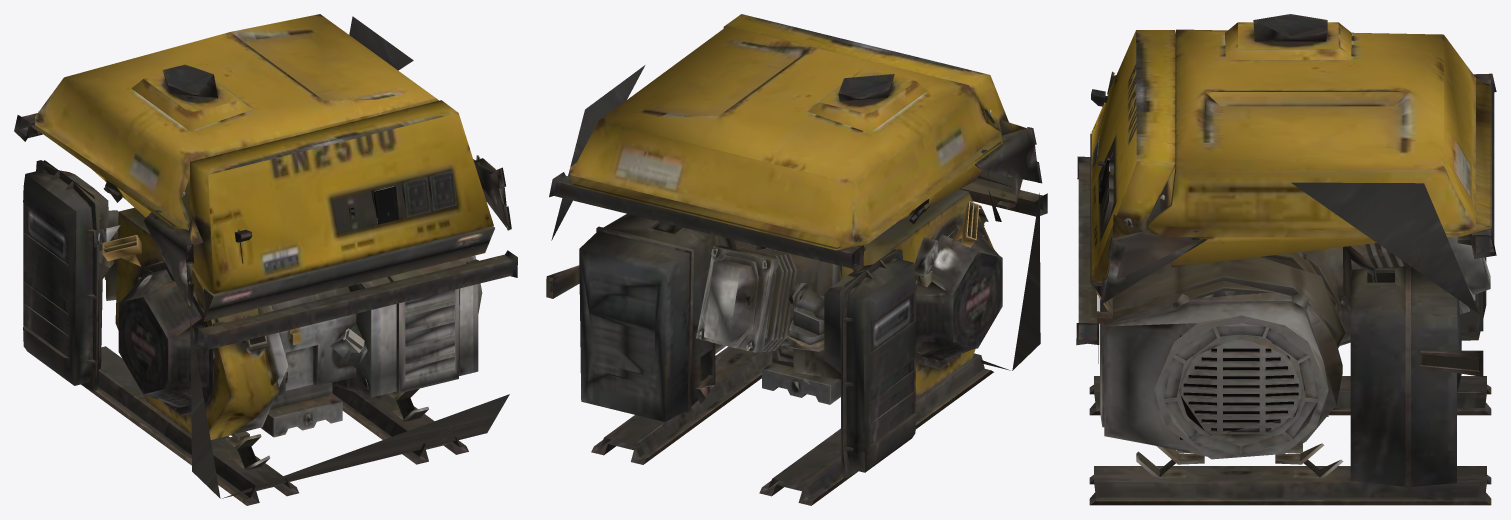
File: generator.glb
The picture shows the model from 3 angles, left to right: view 1: azimuth 30°, elevation 25°; view 2: azimuth 150°, elevation 25°; view 3: azimuth 270°, elevation 25°; orthographic projection. The views are drawn at different scales.
Visible parts, largest first — view 1: portable_generator; view 2: portable_generator; view 3: portable_generator.
Boxes of the visible parts, x1,y1,x2,y2 form: portable_generator: (14,14,517,505); portable_generator: (546,14,1047,505); portable_generator: (1076,14,1496,505).
Size of the model in its own units: 1 by 0.9999 by 0.9999.
2 materials, 2 textured.
